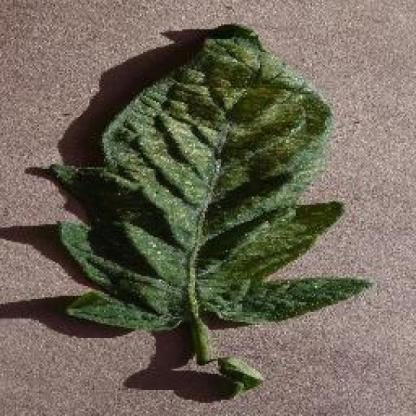Tomato_Spider_Mites: (59, 36, 366, 320)
